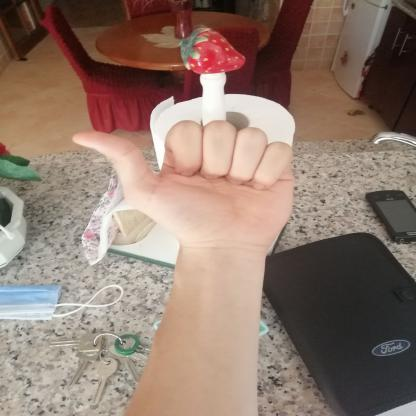DAD: (60, 107, 313, 262)
